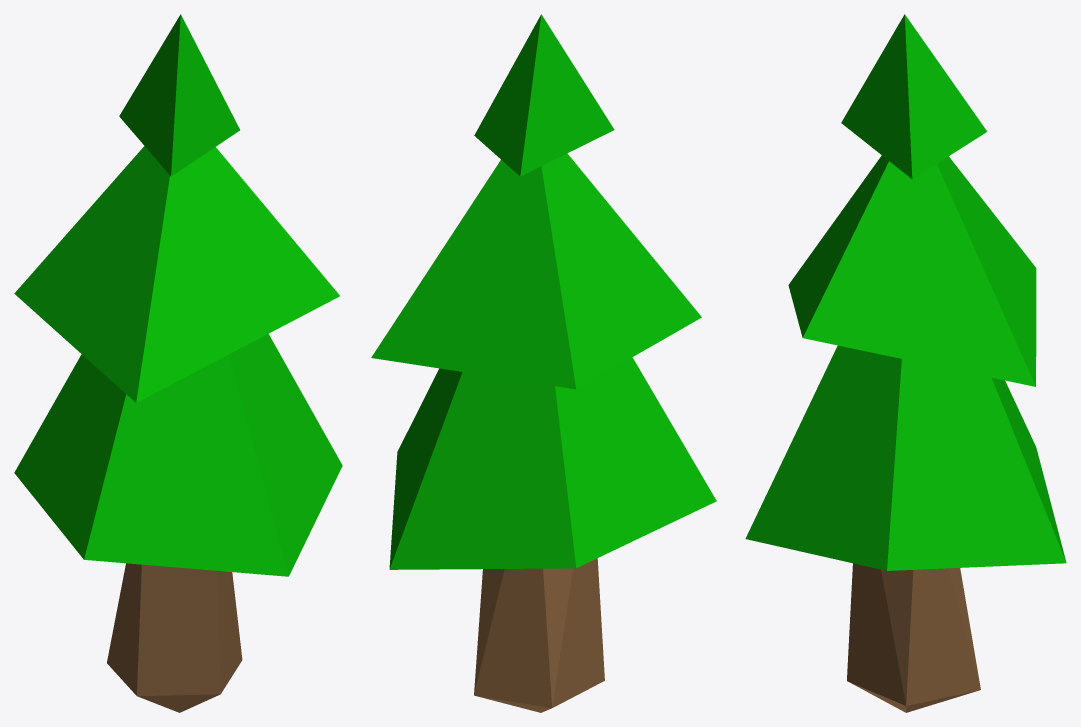
File: spruce.glb
3 renders of one model, left to right at view 1: azimuth 30°, elevation 25°; view 2: azimuth 150°, elevation 25°; view 3: azimuth 270°, elevation 25°, orthographic.
Parts seen in each view (by area): view 1: Circle; view 2: Circle; view 3: Circle.
Part boxes in pixels (box(x1,y1,x2,y2)): Circle: box(14, 14, 342, 712); Circle: box(371, 14, 716, 712); Circle: box(745, 14, 1066, 712).
Size of what is drawn, in the model's own units: 1.93 by 4.46 by 1.86.
